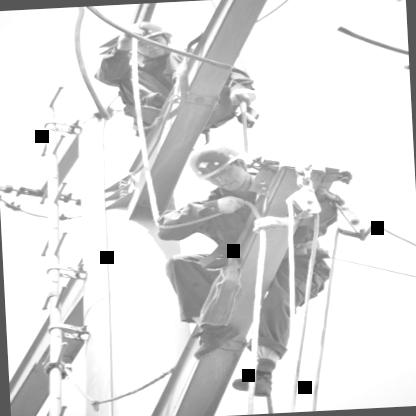helmet: (180, 134, 258, 193), (119, 15, 174, 60)
